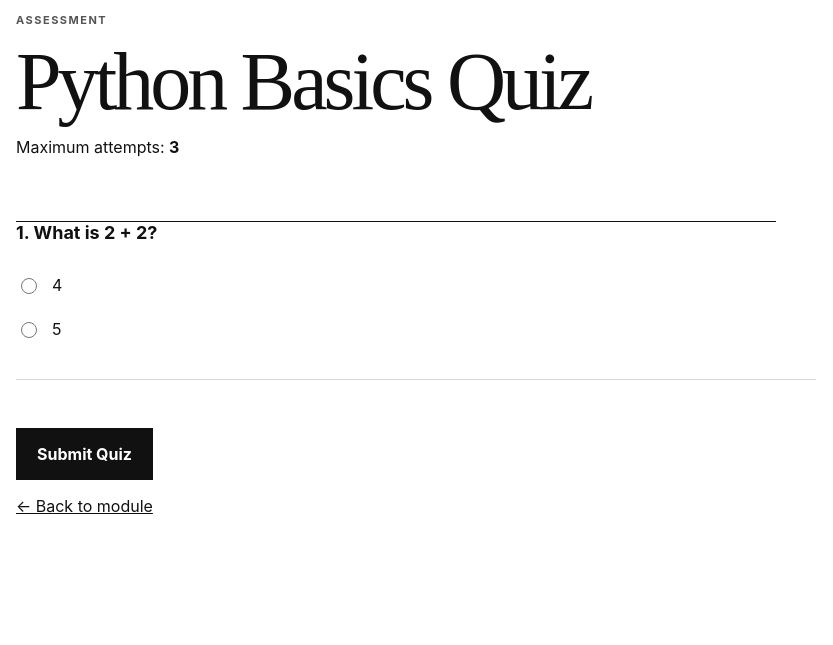
Scenario: QuizPage › loads a quiz and submits it successfully
Expected: the heading "Python Basics Quiz" is shown, [16,36,590,127]
Expected: the text "4" is shown, [52,275,62,295]
Click the radio button labelled "4".
click(29, 286)  # box [21,278,37,294]
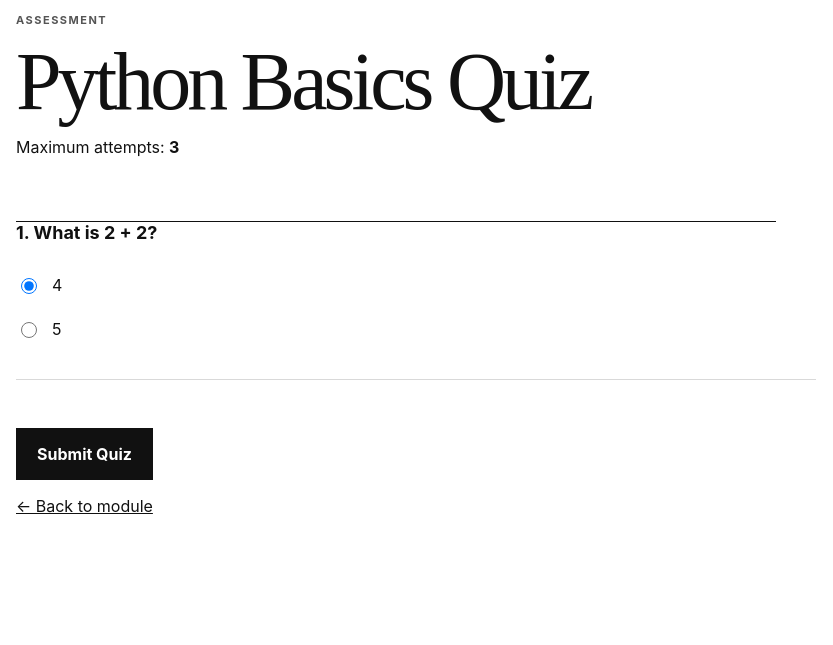
Click the button "Submit Quiz".
click(84, 454)  # box [16,428,153,480]
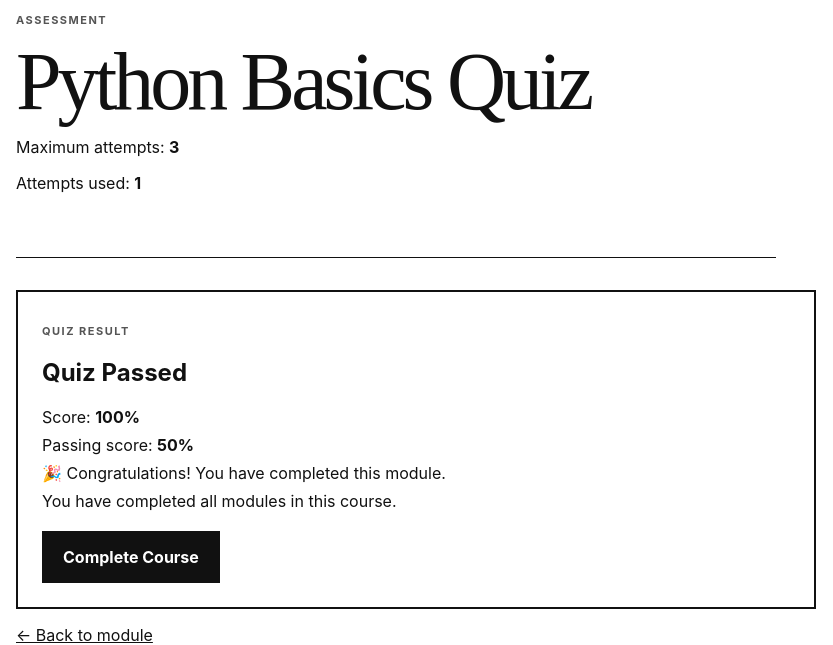
Expected: the heading "Quiz Passed" is shown, [42,358,187,387]
Expected: the text "100%" is shown, [95,407,140,427]
Expected: the text "🎉 Congratulations! You have completed this module." is shown, [42,463,446,483]
